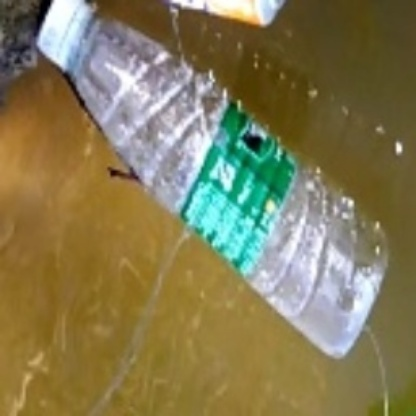bottle: (38, 7, 394, 354)
